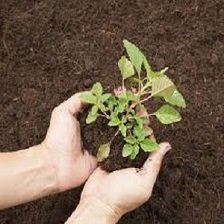loamy_soil: (70, 72, 187, 174)
